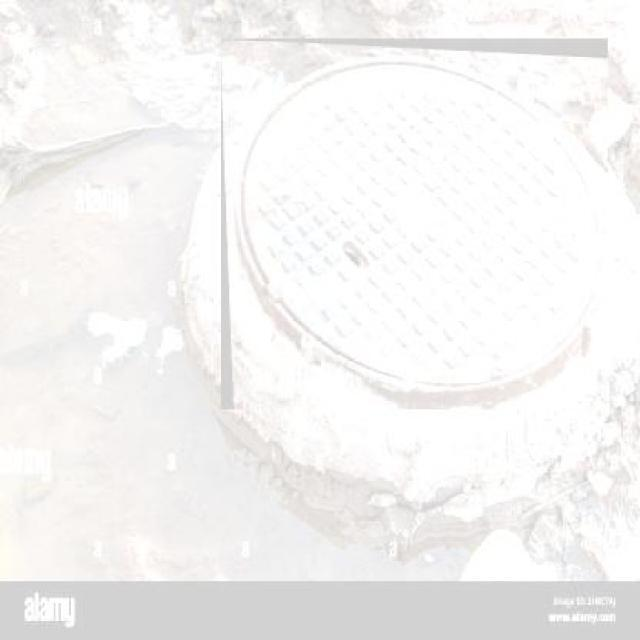Manhole: (220, 38, 608, 410)
